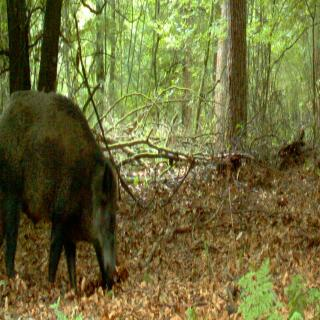Pig: (0, 41, 134, 320)
